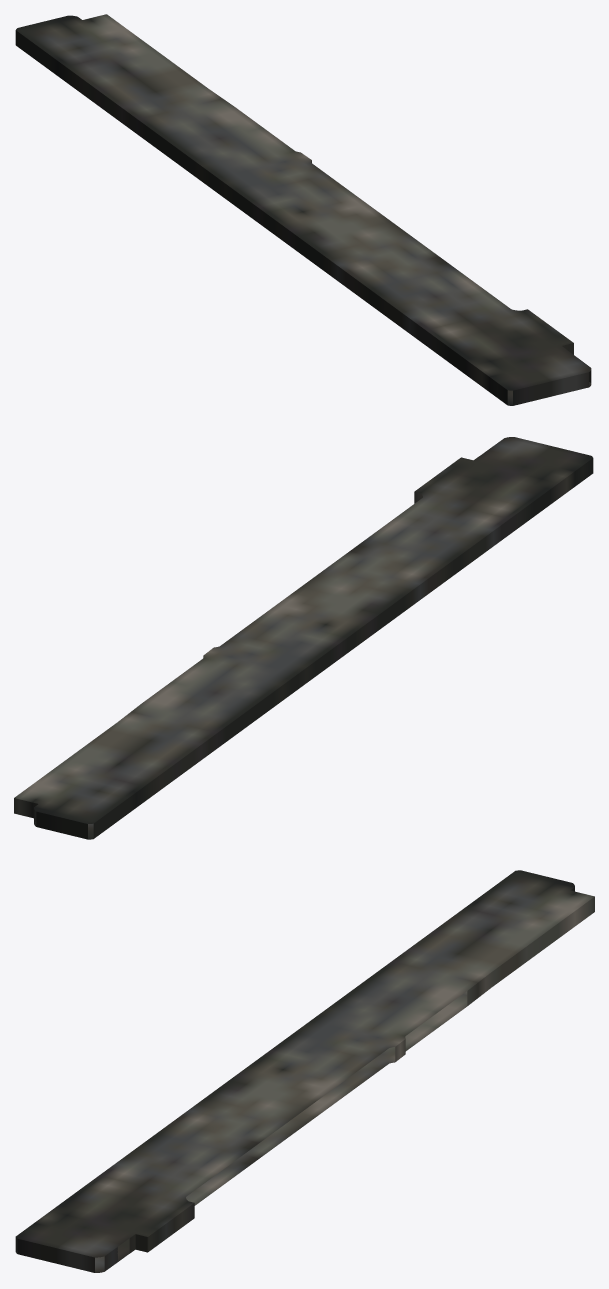
Rendered from SM_EC_Fence_Part_42.fbx.
The picture shows the model from 3 angles, top to bottom: view 1: azimuth 30°, elevation 25°; view 2: azimuth 150°, elevation 25°; view 3: azimuth 330°, elevation 25°; orthographic projection.
Parts seen in each view (by area): view 1: SM_EC_Fence_Part_42; view 2: SM_EC_Fence_Part_42; view 3: SM_EC_Fence_Part_42.
Boxes of the visible parts, <box> form: SM_EC_Fence_Part_42: <box>15,14,591,405</box>; SM_EC_Fence_Part_42: <box>14,437,593,839</box>; SM_EC_Fence_Part_42: <box>15,870,594,1272</box>.
Bounding box in the file's own units: 0.1217 × 1.07 × 0.0181.
